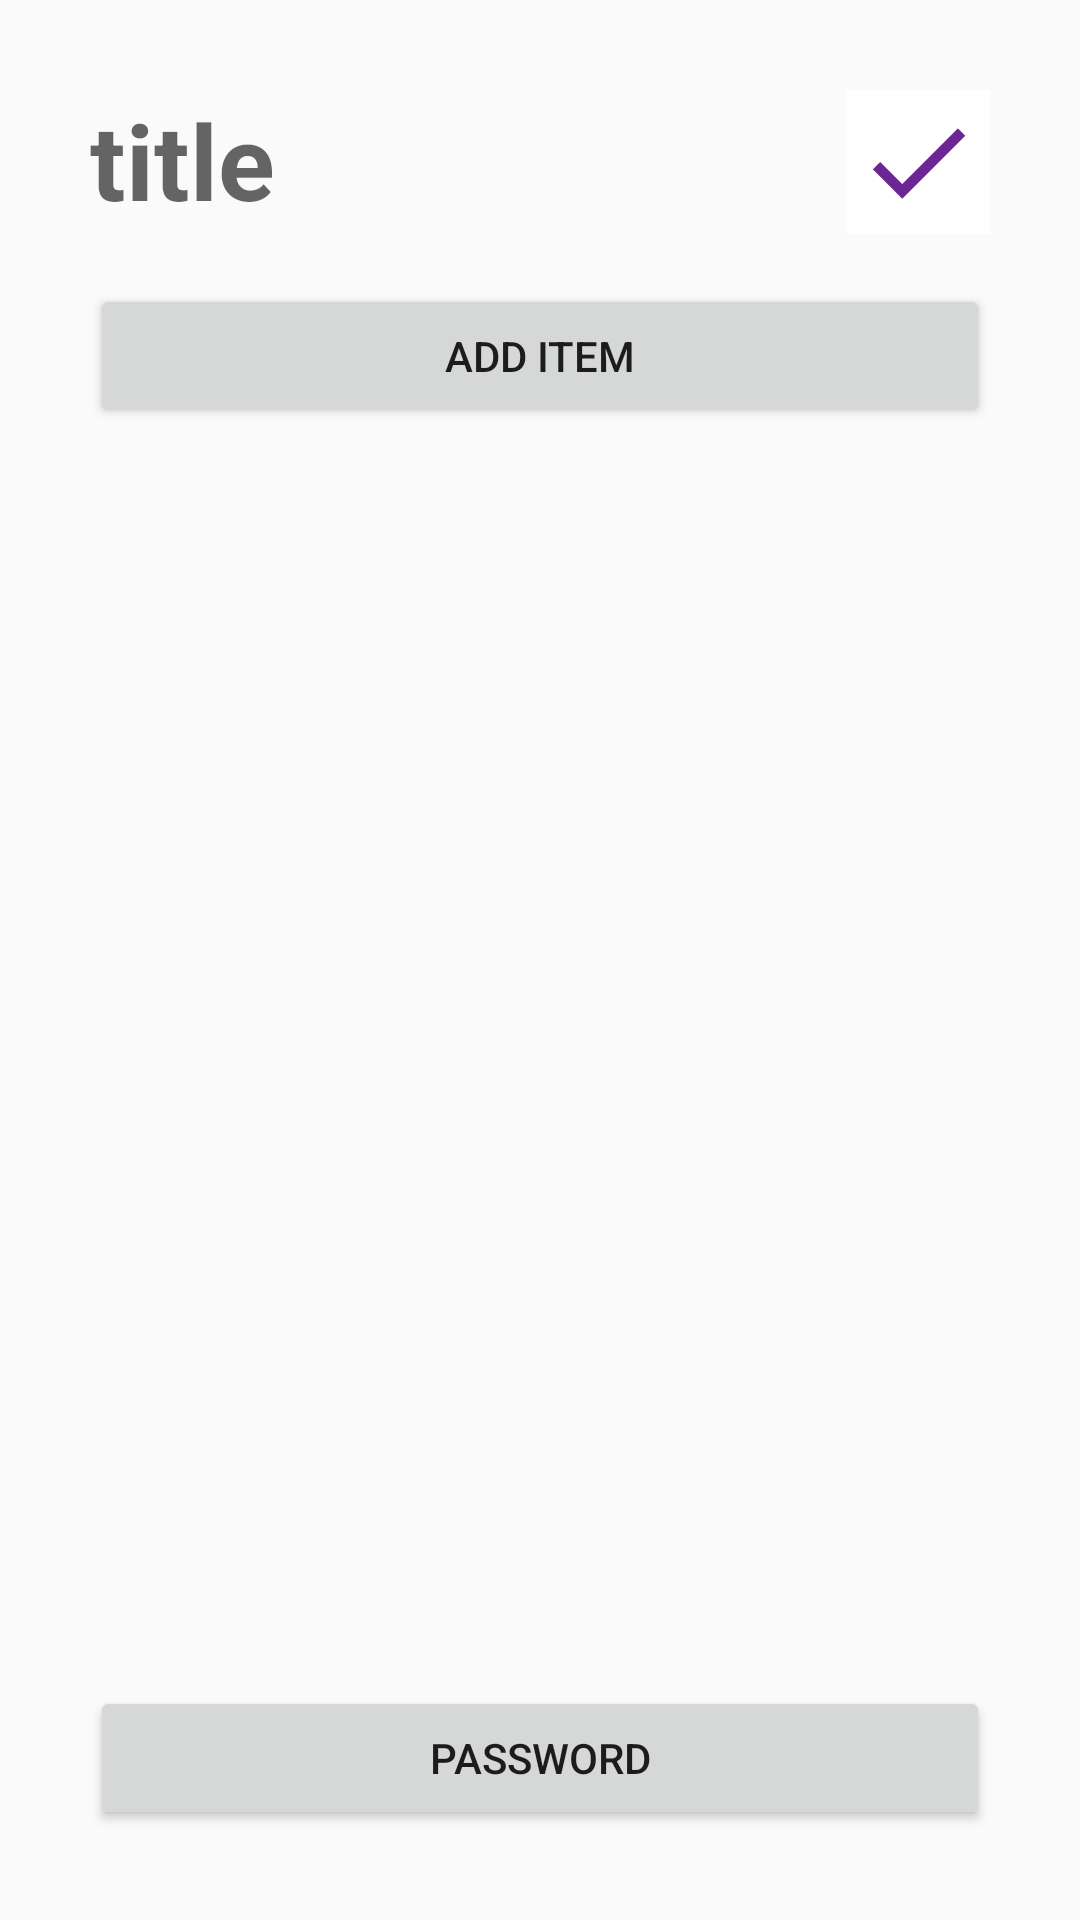

Screen size 1080 × 1920. Icon name, then its center in pixels as [x,y]:
savenote: [919,163]
